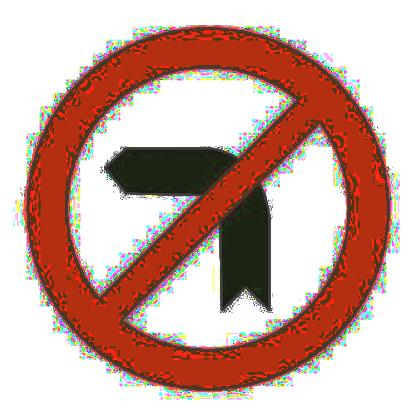No left turn: (31, 23, 390, 394)
